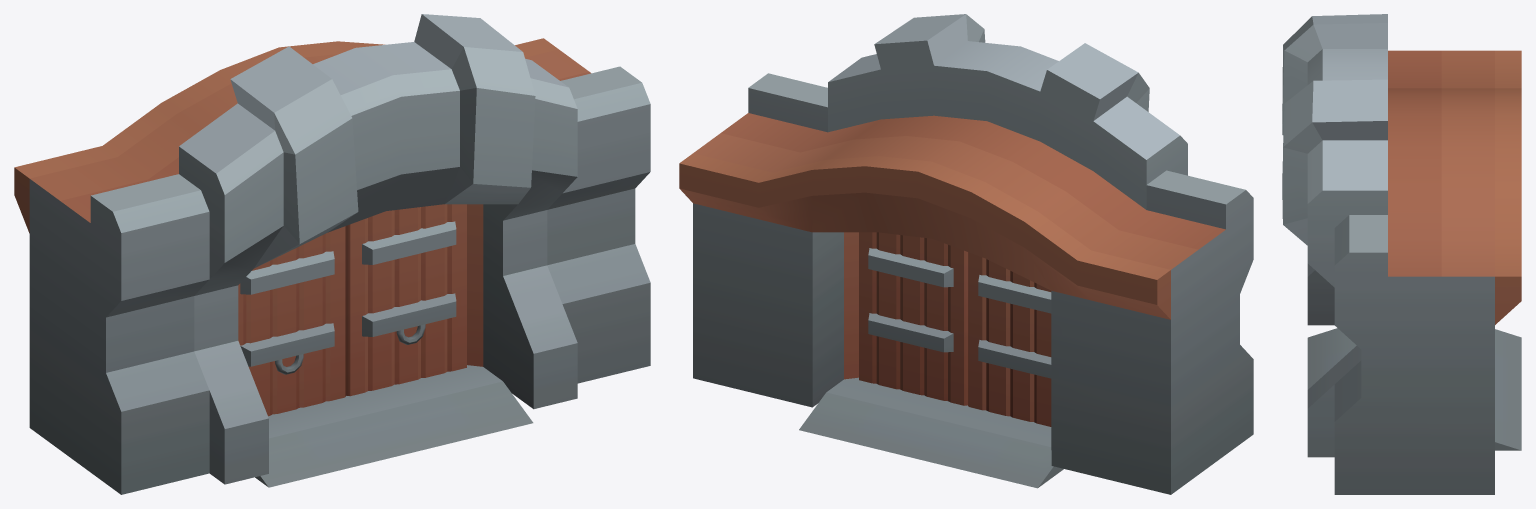
Rendered from wall_straight_gate.glb.
3 renders of one model, left to right at view 1: azimuth 30°, elevation 25°; view 2: azimuth 150°, elevation 25°; view 3: azimuth 270°, elevation 25°, orthographic. The views are drawn at different scales.
Visible parts, largest first — view 1: wall_straight_gate, wall_straight_gate_door_left, wall_straight_gate_door_right; view 2: wall_straight_gate, wall_straight_gate_door_left, wall_straight_gate_door_right; view 3: wall_straight_gate.
Boxes of the visible parts, x1,y1,x2,y2 form: wall_straight_gate: (14, 14, 650, 494); wall_straight_gate_door_left: (346, 204, 466, 396); wall_straight_gate_door_right: (238, 226, 346, 416); wall_straight_gate: (679, 14, 1253, 494); wall_straight_gate_door_left: (859, 232, 967, 405); wall_straight_gate_door_right: (968, 252, 1051, 426); wall_straight_gate: (1282, 14, 1521, 494).
Size of the model in its own units: 2 by 1.41 by 0.8956.
Materials: 1 (1 with a texture image).
